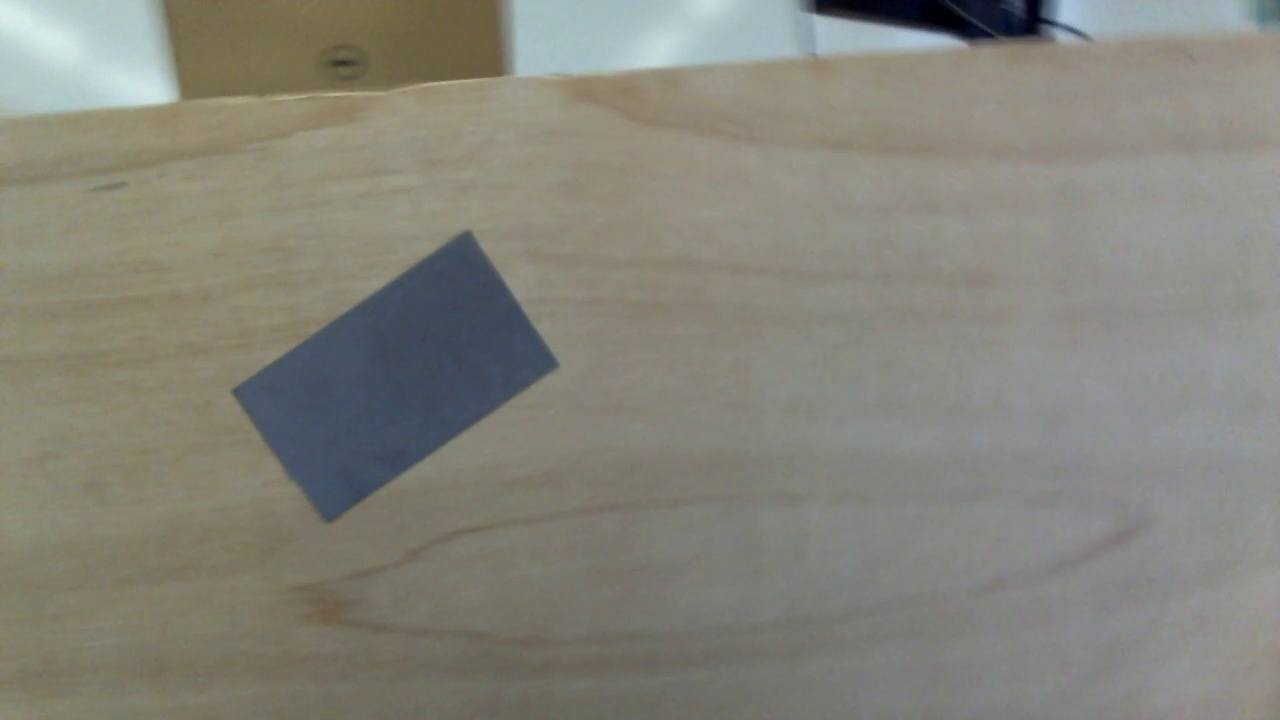Tape: (235, 233, 561, 527)
